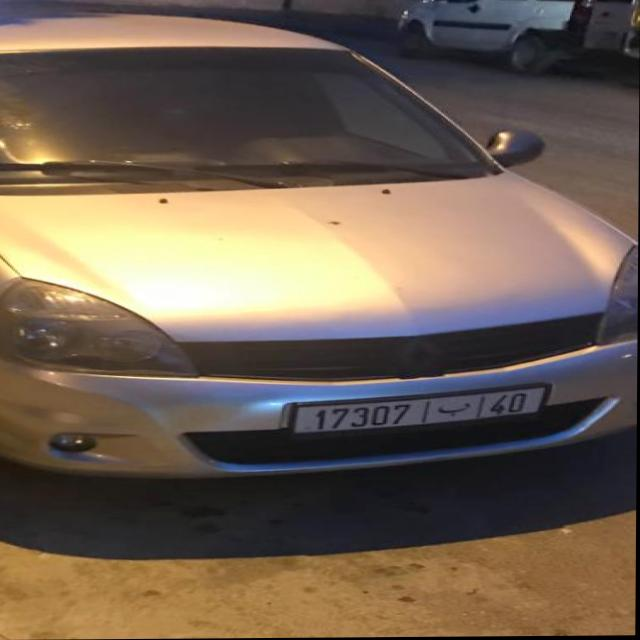License-Plate: (295, 389, 547, 433)
